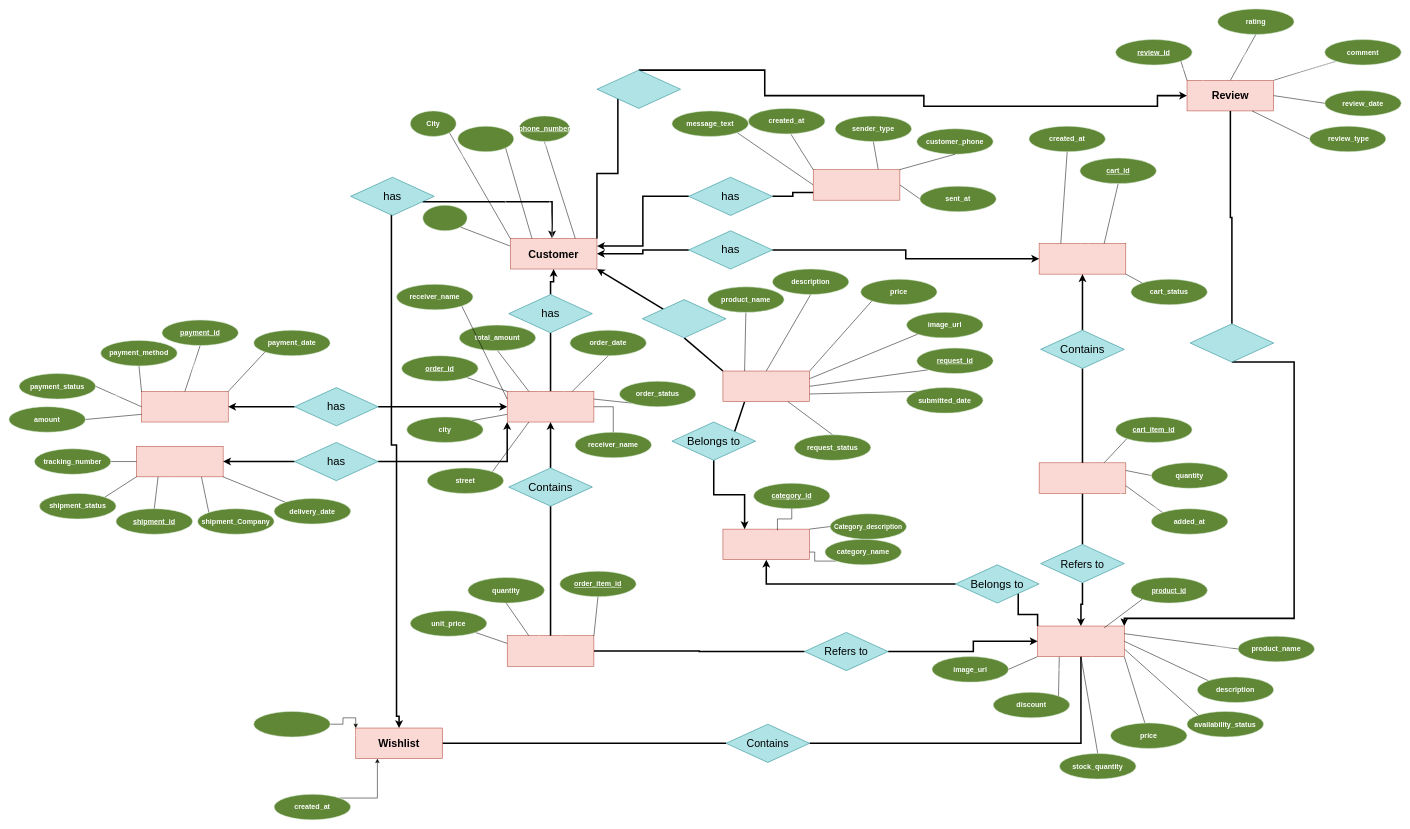
Some shapes in this 1410 by 829 pixel diagram are drawn without their labels. Each missing label, with the box of its shape:
Category: (722, 529, 810, 560)
ChatMessage: (813, 169, 900, 200)
Name: (457, 126, 514, 152)
Order: (507, 391, 594, 422)
Order Item: (507, 635, 594, 666)
Password: (422, 205, 467, 231)
Payment: (141, 391, 228, 422)
Product: (1037, 626, 1124, 657)
Receives: (1190, 323, 1274, 362)
Selling Request: (722, 371, 810, 402)
Shipment: (136, 446, 223, 477)
Shopping Cart: (1039, 243, 1126, 274)
Shopping Cart Item: (1039, 462, 1126, 493)
Submits: (642, 299, 726, 338)
wishlist_id: (253, 711, 330, 737)
writes: (596, 70, 681, 108)
